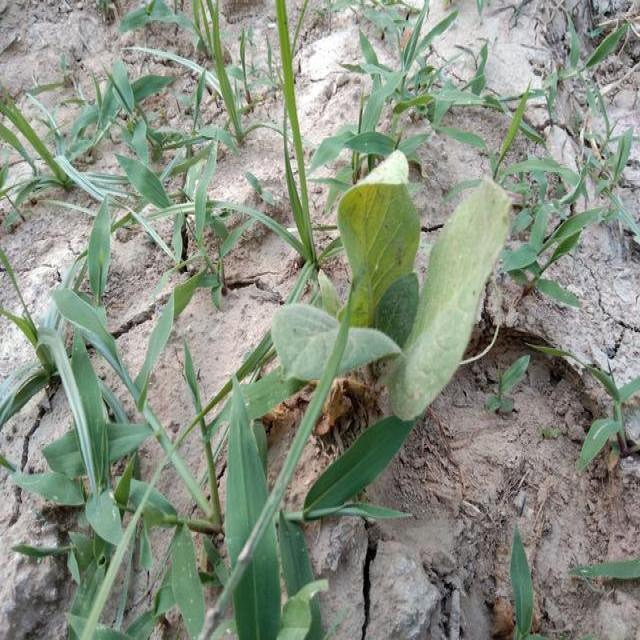crop: (266, 150, 508, 418)
